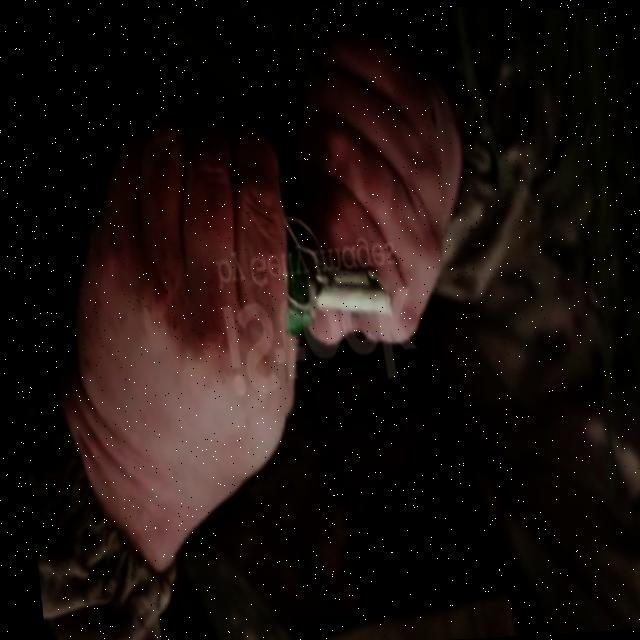grenade: (267, 214, 398, 367)
